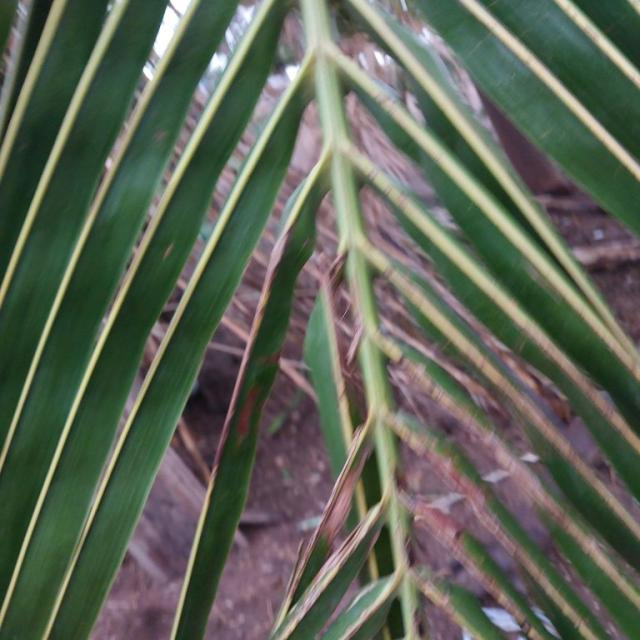gray leaf spot: (266, 170, 501, 629)
